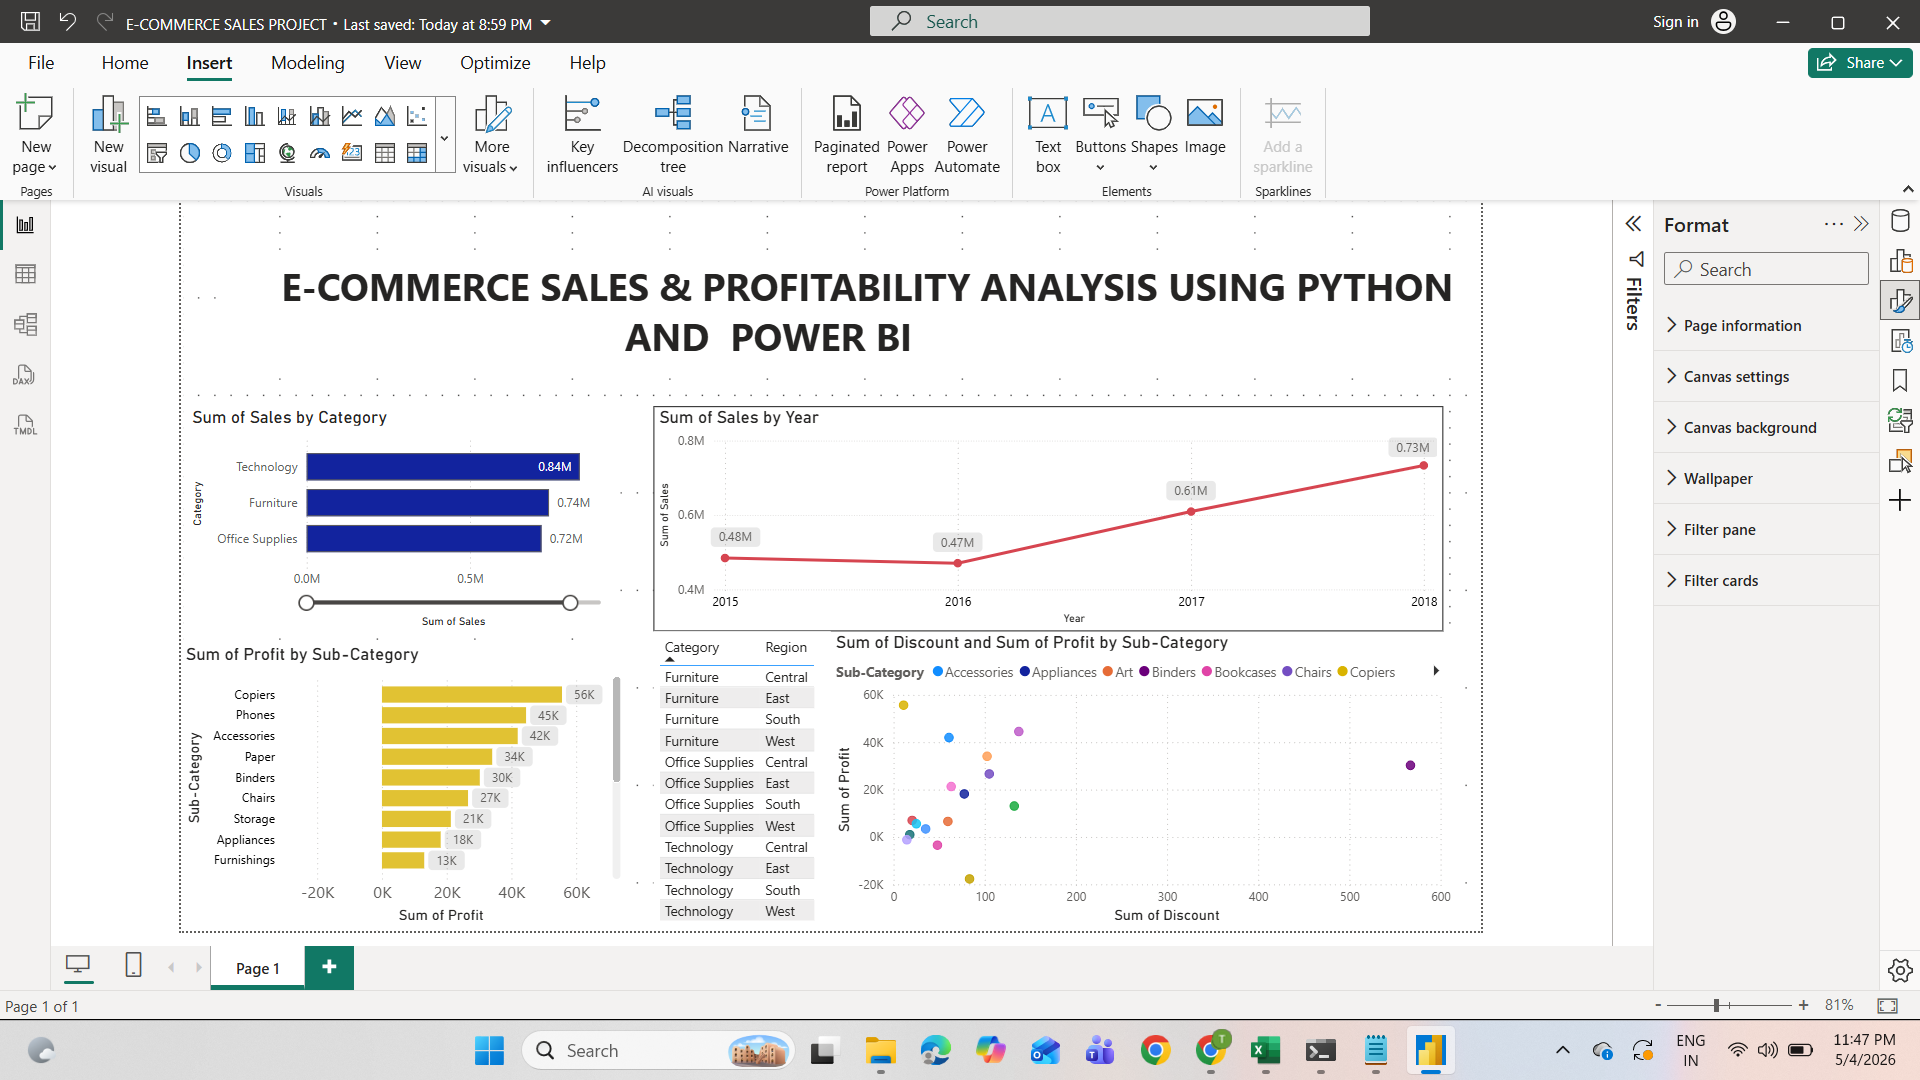

Layout of this report page (visuals, bound fields, positions):
{"tool":"powerbi","page":{"name":"Page 1","canvas":[1280,720],"ordinal":0},"visuals":[{"type":"barChart","fields":{"Category":["Superstore.Category"],"Y":["Sum(Superstore.Sales)"]},"box":[6.2,203.1,425.8,221.5],"z":0},{"type":"clusteredBarChart","fields":{"Category":["Superstore.Sub-Category"],"Y":["Sum(Superstore.Profit)"]},"box":[0,436.9,438.2,280.6],"z":1},{"type":"scatterChart","fields":{"X":["Sum(Superstore.Discount)"],"Y":["Sum(Superstore.Profit)"],"Series":["Superstore.Sub-Category"]},"box":[640,424.6,615.4,292.9],"z":2},{"type":"lineChart","fields":{"Category":["Superstore.Order Date.Variation.Date Hierarchy.Year","Superstore.Order Date.Variation.Date Hierarchy.Quarter","Superstore.Order Date.Variation.Date Hierarchy.Month","Superstore.Order Date.Variation.Date Hierarchy.Day"],"Y":["Sum(Superstore.Sales)"]},"box":[465.2,203.1,777.8,221.5],"z":3},{"type":"tableEx","fields":{"Values":["Superstore.Category","Superstore.Region"]},"box":[465.2,424.6,174.8,295.4],"z":4},{"type":"textbox","box":[40.6,54.2,1239.4,113.2],"z":5}]}

Visuals, with their boxes on the page's 1280x720 design canvas (x1, y1, x2, y2). These are canvas units, not pixel positions in the 1920x1080 screenshot, which may show the page scaled, cropped or inside an application window:
barChart - Superstore.Category x Sum(Superstore.Sales): {"left": 6, "top": 203, "right": 432, "bottom": 425}
clusteredBarChart - Superstore.Sub-Category x Sum(Superstore.Profit): {"left": 0, "top": 437, "right": 438, "bottom": 718}
scatterChart - Sum(Superstore.Discount) x Sum(Superstore.Profit): {"left": 640, "top": 425, "right": 1255, "bottom": 718}
lineChart - Superstore.Order Date.Variation.Date Hierarchy.Year x Superstore.Order Date.Variation.Date Hierarchy.Quarter: {"left": 465, "top": 203, "right": 1243, "bottom": 425}
tableEx - Superstore.Category x Superstore.Region: {"left": 465, "top": 425, "right": 640, "bottom": 720}
textbox: {"left": 41, "top": 54, "right": 1280, "bottom": 167}
